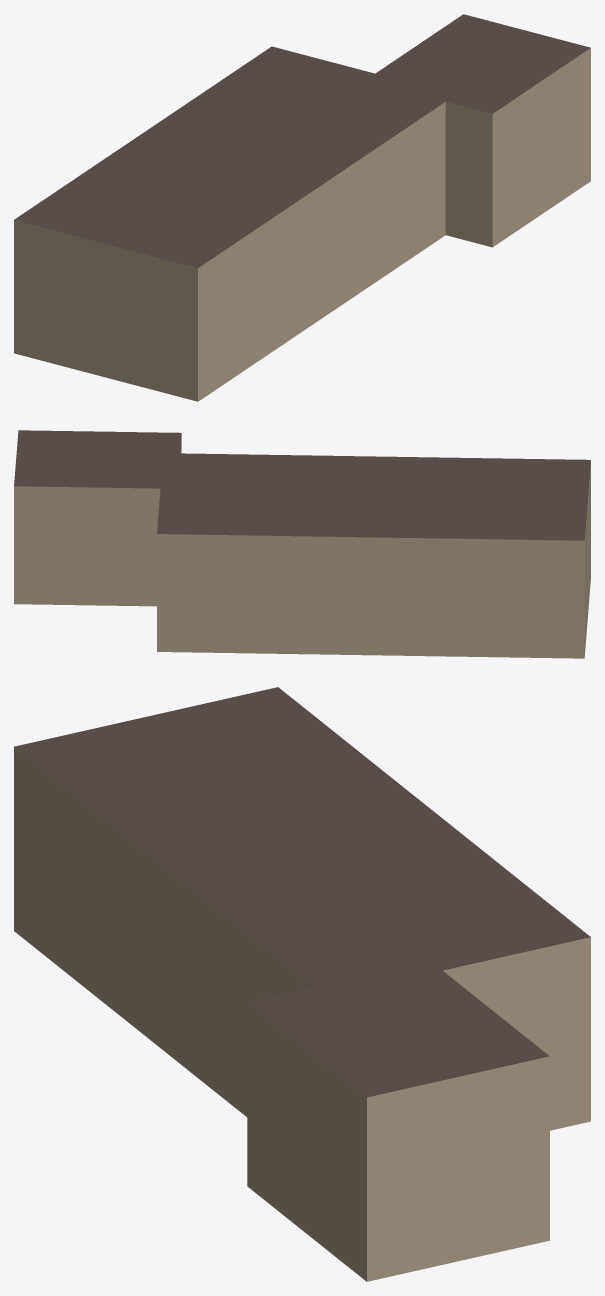
3 views of the same model, one above another, from view 1: azimuth 30°, elevation 25°; view 2: azimuth 150°, elevation 25°; view 3: azimuth 270°, elevation 25° (orthographic). The views are drawn at different scales.
Parts seen in each view (by area): view 1: HP-w734452855; view 2: HP-w734452855; view 3: HP-w734452855.
Boxes of the visible parts, box(x1,y1,x2,y2) form: HP-w734452855: box(14, 14, 590, 401); HP-w734452855: box(14, 430, 590, 658); HP-w734452855: box(14, 687, 590, 1281).
Size of the model in its own units: 42.96 by 9 by 25.52.
